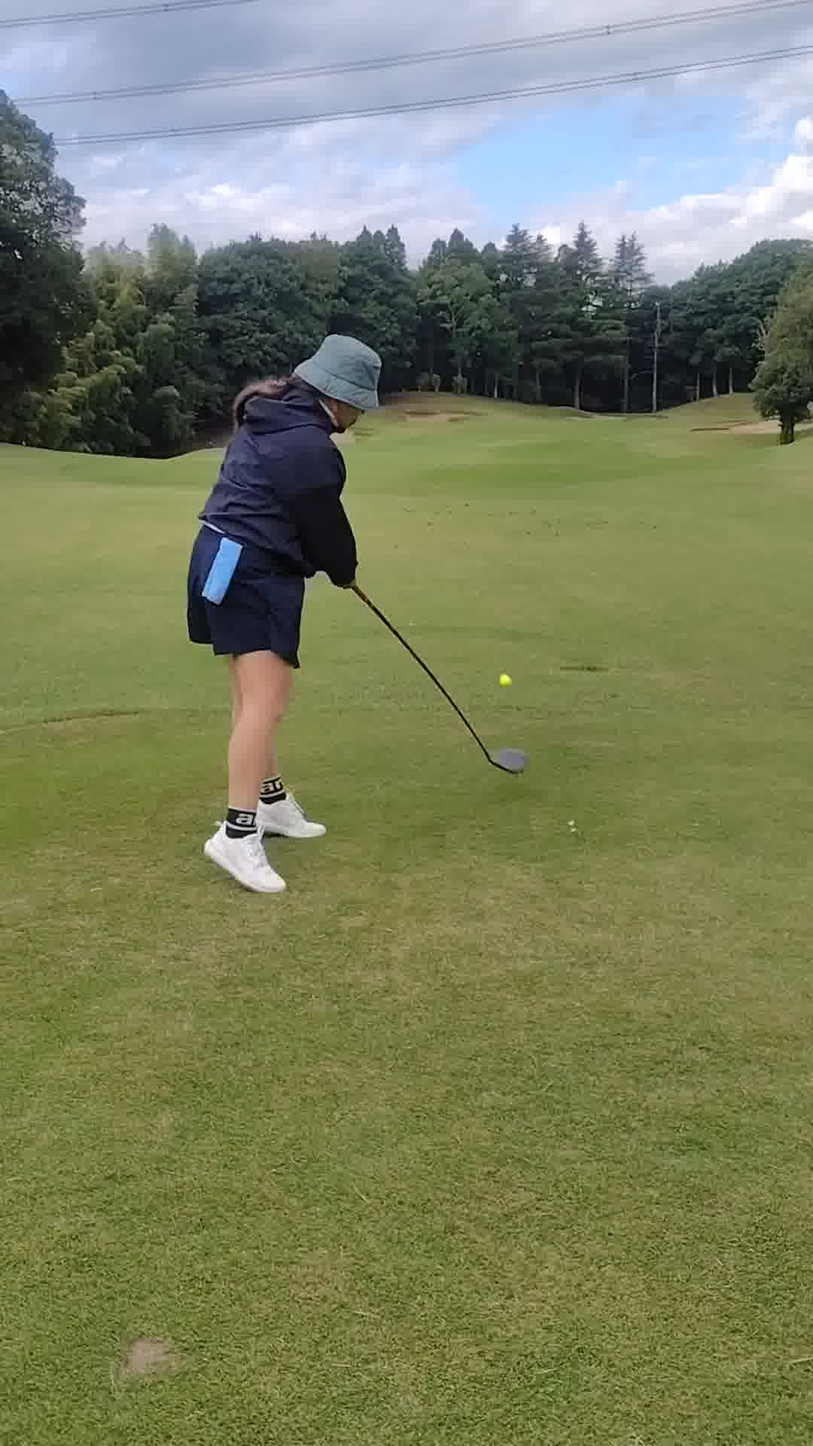clubhead: (321, 646, 645, 918)
